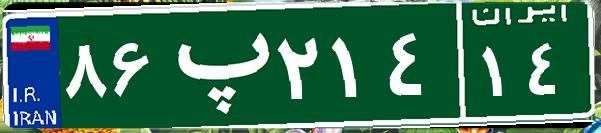1: (330, 28, 385, 110), (475, 38, 525, 113)
2: (273, 28, 330, 110)
4: (385, 28, 445, 110), (525, 38, 570, 115)
6: (110, 28, 158, 105)
8: (57, 26, 110, 107)
پ: (158, 15, 273, 115)
